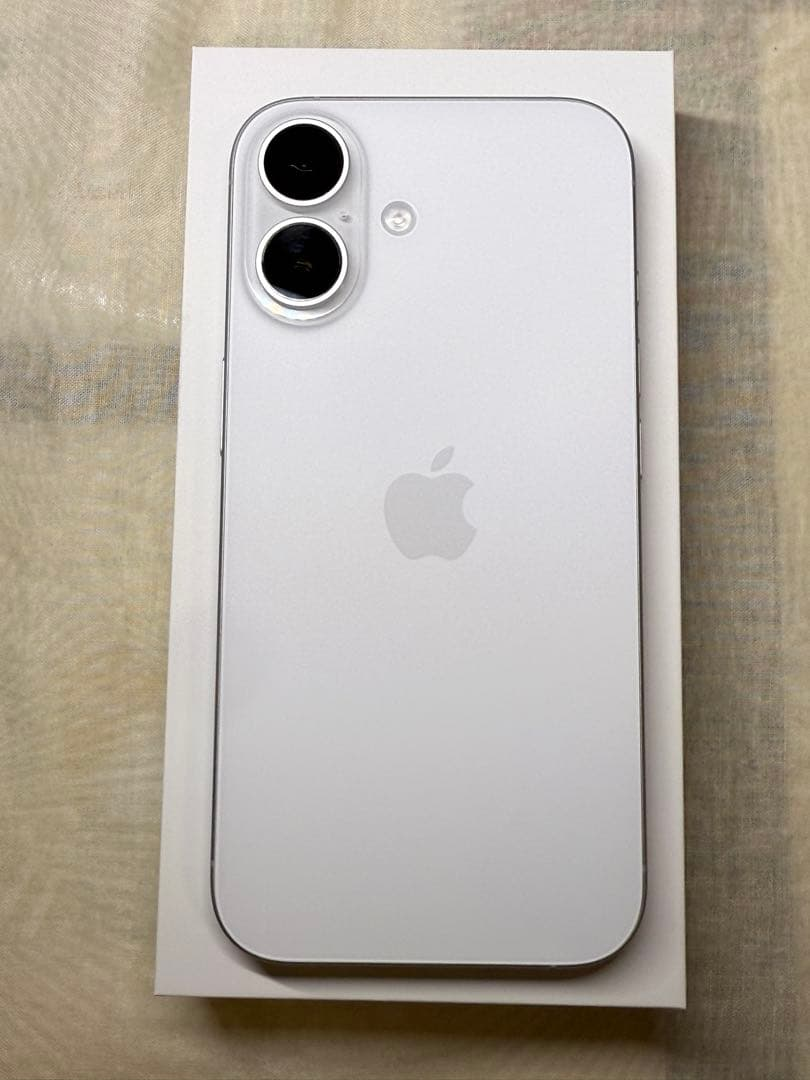iphone16_white: (197, 79, 666, 979), (224, 95, 430, 341)
